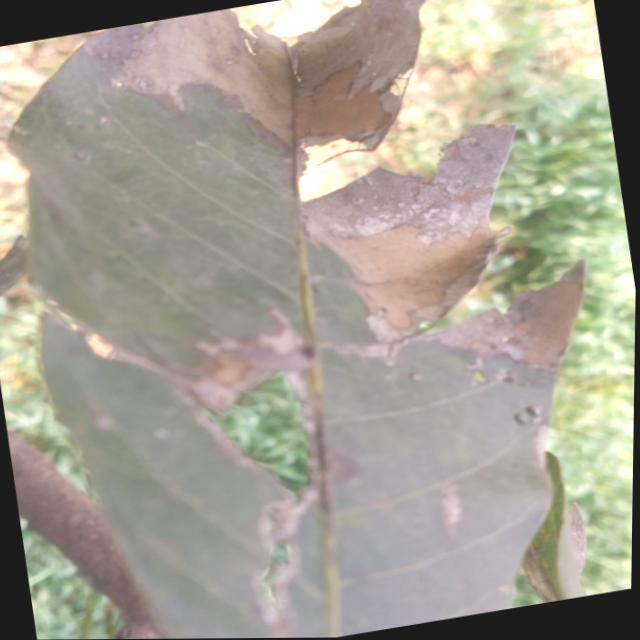Bacterial Cancer: (165, 322, 333, 555)
Powdery Mildew: (176, 2, 377, 160), (291, 154, 504, 253)
